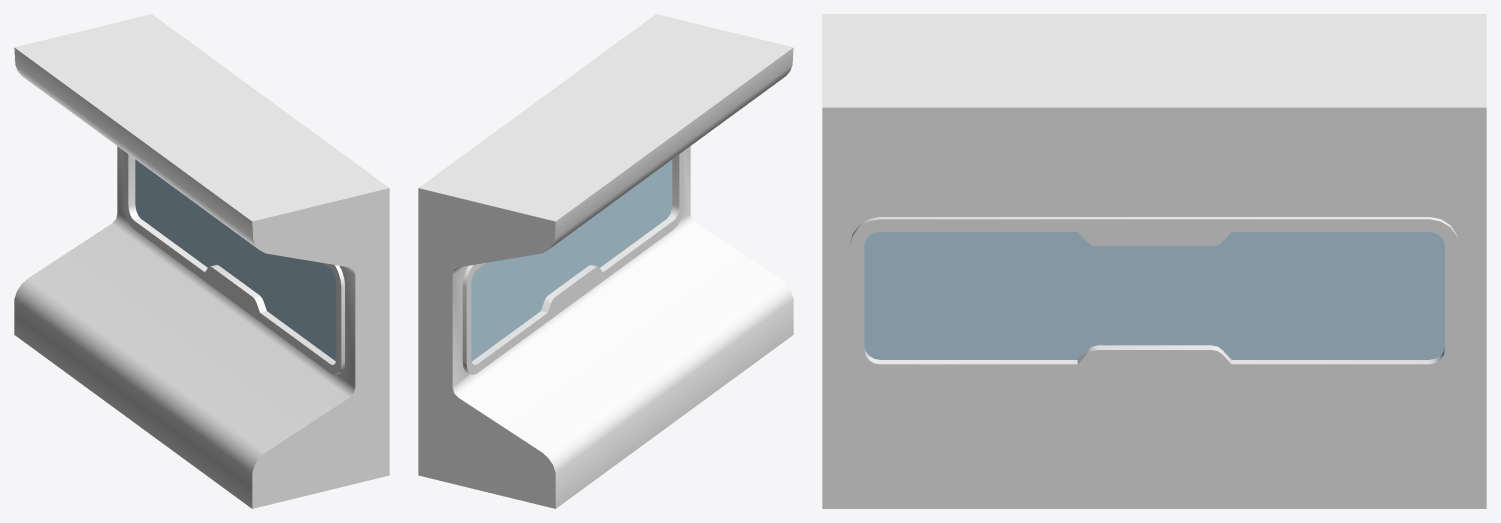
File: Wall_Simple_04_Long.glb
3 renders of one model, left to right at view 1: azimuth 30°, elevation 25°; view 2: azimuth 150°, elevation 25°; view 3: azimuth 270°, elevation 25°, orthographic. The views are drawn at different scales.
Parts seen in each view (by area): view 1: Wall_Simple_04_Long, Glass; view 2: Wall_Simple_04_Long, Glass; view 3: Wall_Simple_04_Long, Glass.
Part boxes in pixels (x1,y1,x2,y2): Wall_Simple_04_Long: (14,14,389,508); Glass: (135,159,336,361); Wall_Simple_04_Long: (418,14,793,508); Glass: (471,160,672,361); Wall_Simple_04_Long: (822,14,1486,508); Glass: (864,232,1444,359).
Bounding box in the file's own units: 2.05 × 4 × 6.
